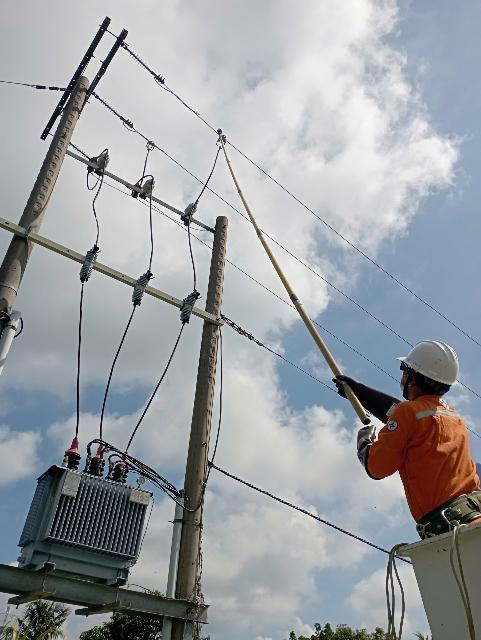gloves: (302, 368, 418, 431), (341, 416, 387, 472)
harness: (398, 490, 481, 533)
helmet: (384, 336, 461, 398)
